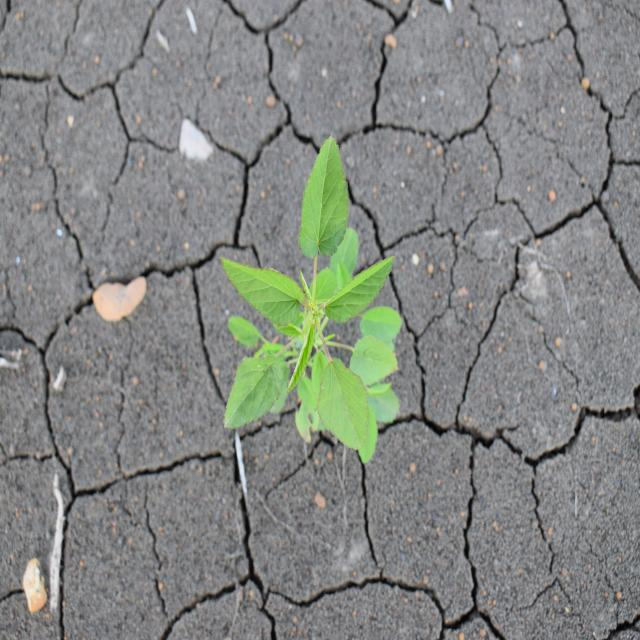PricklySida: (218, 134, 404, 467)
